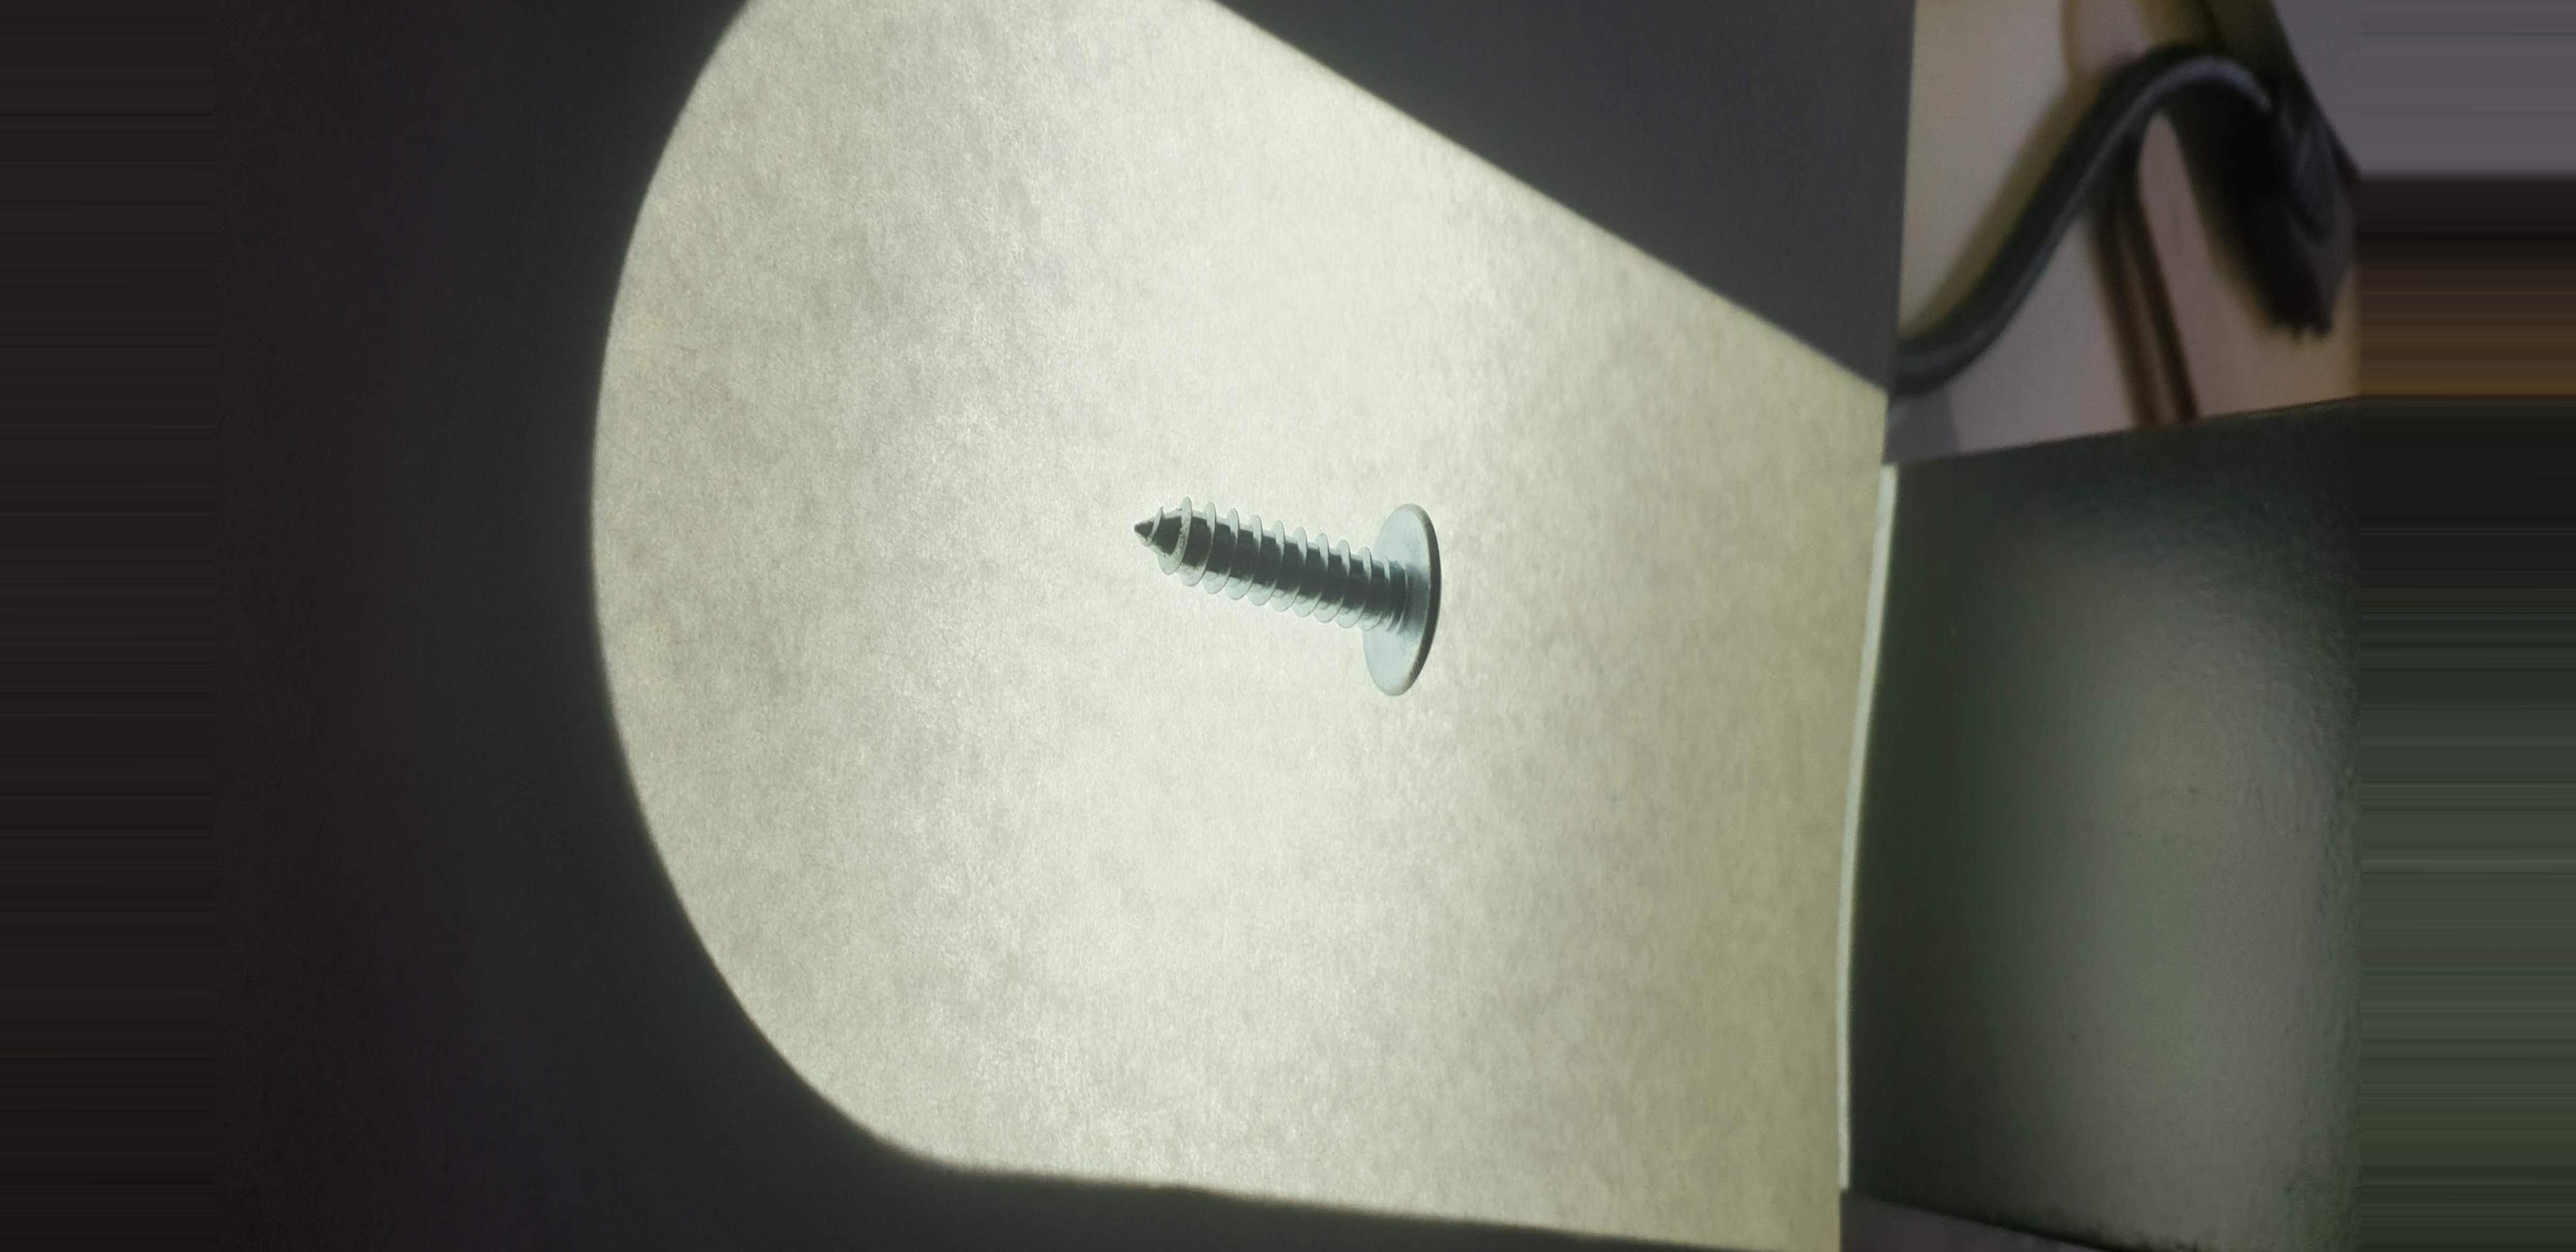S002: (1079, 472, 1515, 721)
